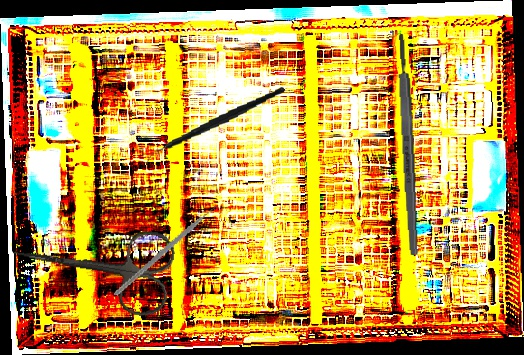Chopper: (114, 185, 226, 319), (138, 86, 291, 167)
Iris Scissors: (6, 208, 178, 321)
Scalpel Handle: (395, 33, 420, 256)
